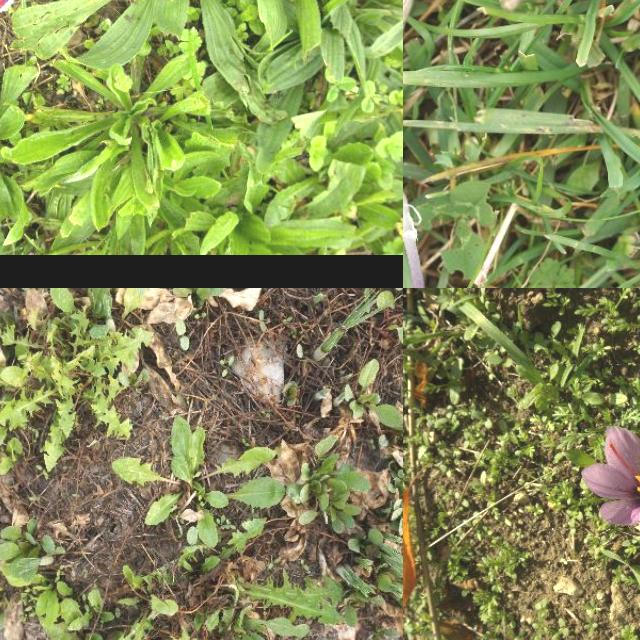flower: (582, 421, 640, 525)
